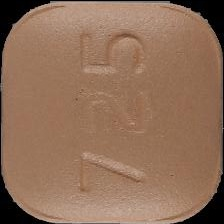68084-875: (0, 0, 224, 224)
